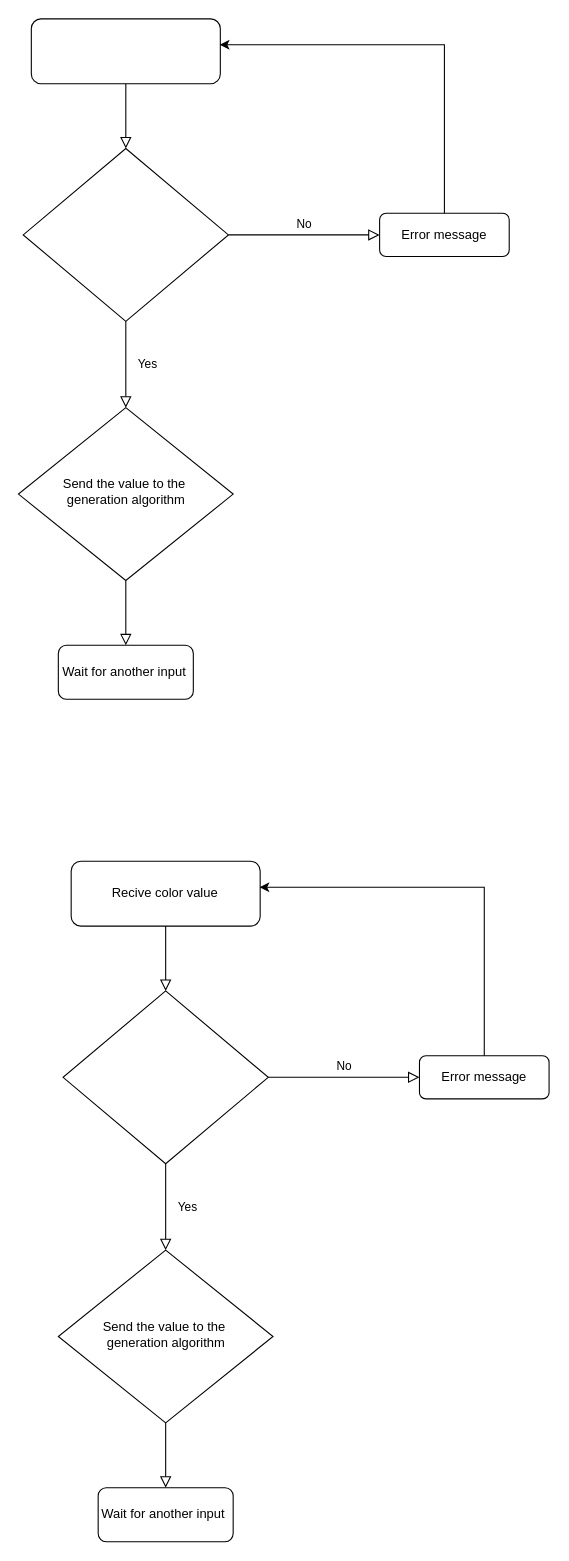
Image size: 569x1561. Some labels were removed from this diagram. Each missing label, with the centre of its shape:
"7 characters string?" goes at point 165,1077.
"In range of 20 to 400 inclusive?" goes at point 125,234.
"Recive size value" goes at point 125,51.
